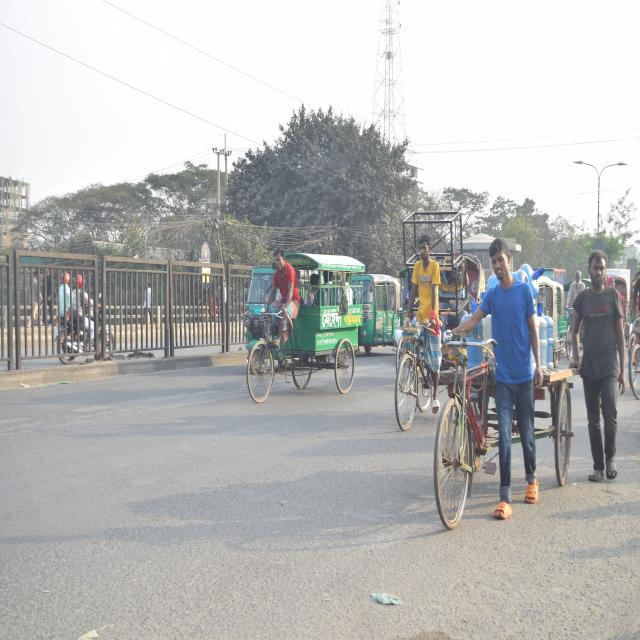motorbike: (46, 288, 121, 364)
